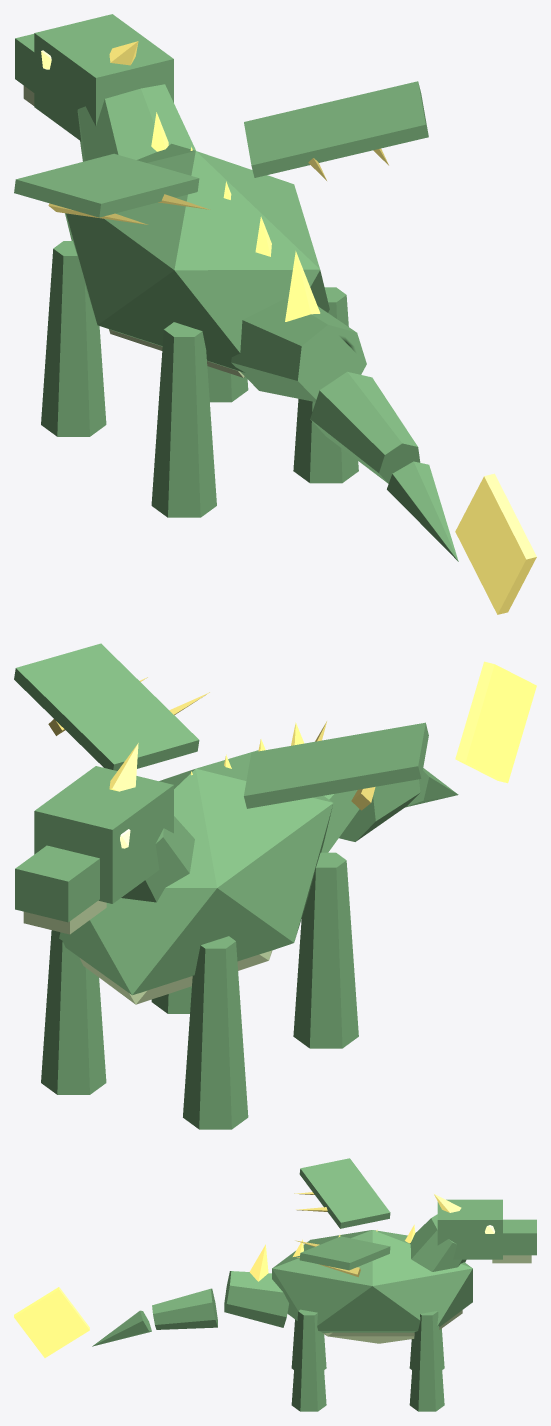
The model's file is dragon_hatchling.glb.
3 views of the same model, one above another, from view 1: azimuth 30°, elevation 25°; view 2: azimuth 150°, elevation 25°; view 3: azimuth 270°, elevation 25° (orthographic). The views are drawn at different scales.
Parts seen in each view (by area): view 1: DragonBody; view 2: DragonBody; view 3: DragonBody.
Part boxes in pixels (x1,y1,x2,y2): DragonBody: (14,14,536,614); DragonBody: (14,643,536,1129); DragonBody: (14,1158,536,1411).
Bounding box in the file's own units: 1.65 × 1.4 × 3.44.
